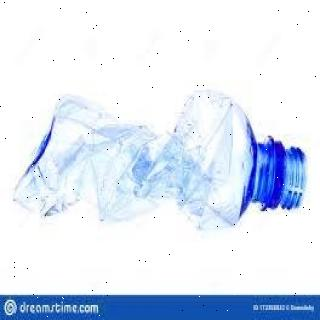Plastic-bottle: (10, 86, 310, 239)
